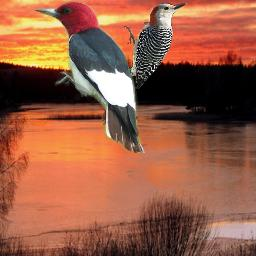Woodpecker: (32, 1, 148, 153), (119, 2, 188, 89)
